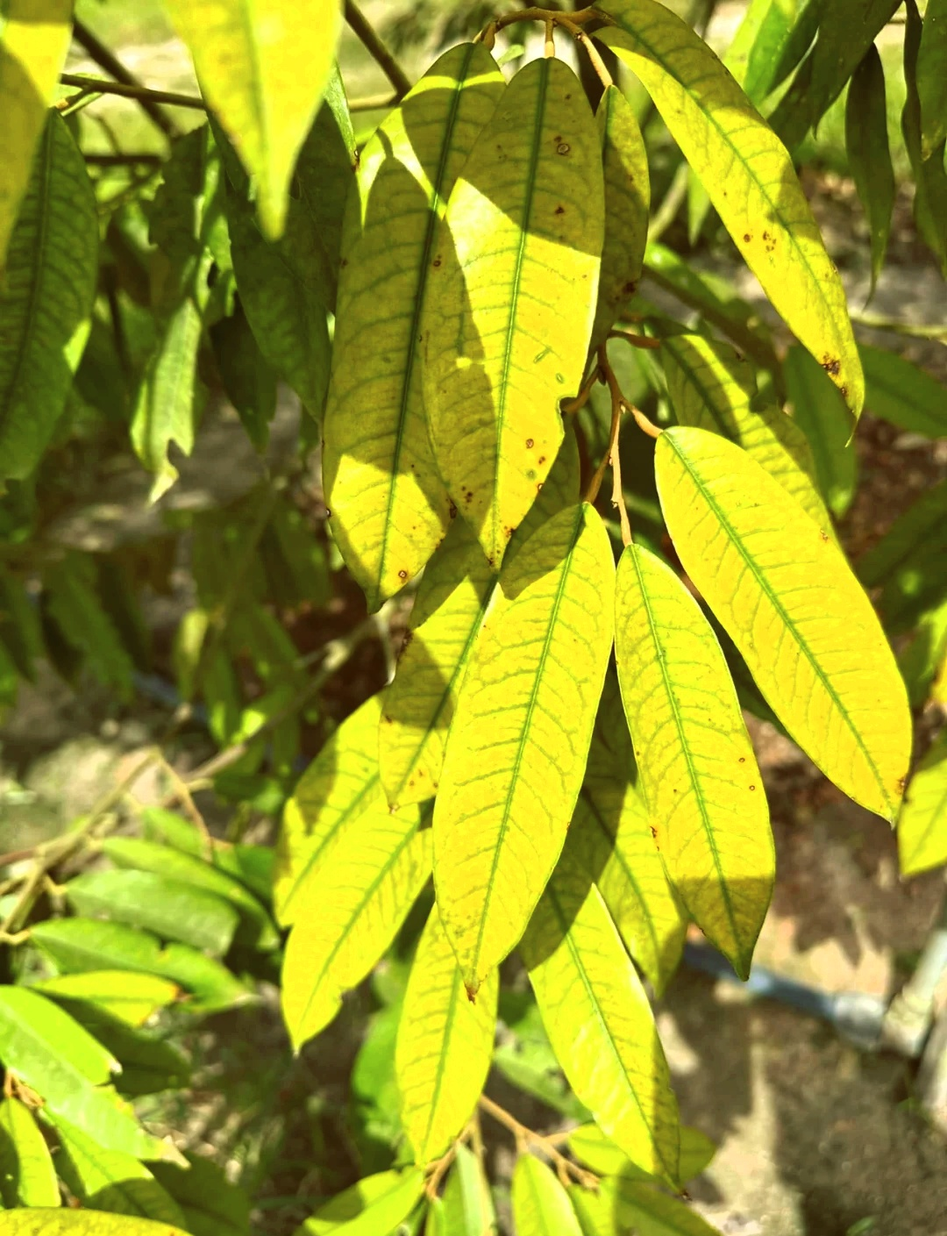Stink_Bug: (184, 347, 761, 940)
